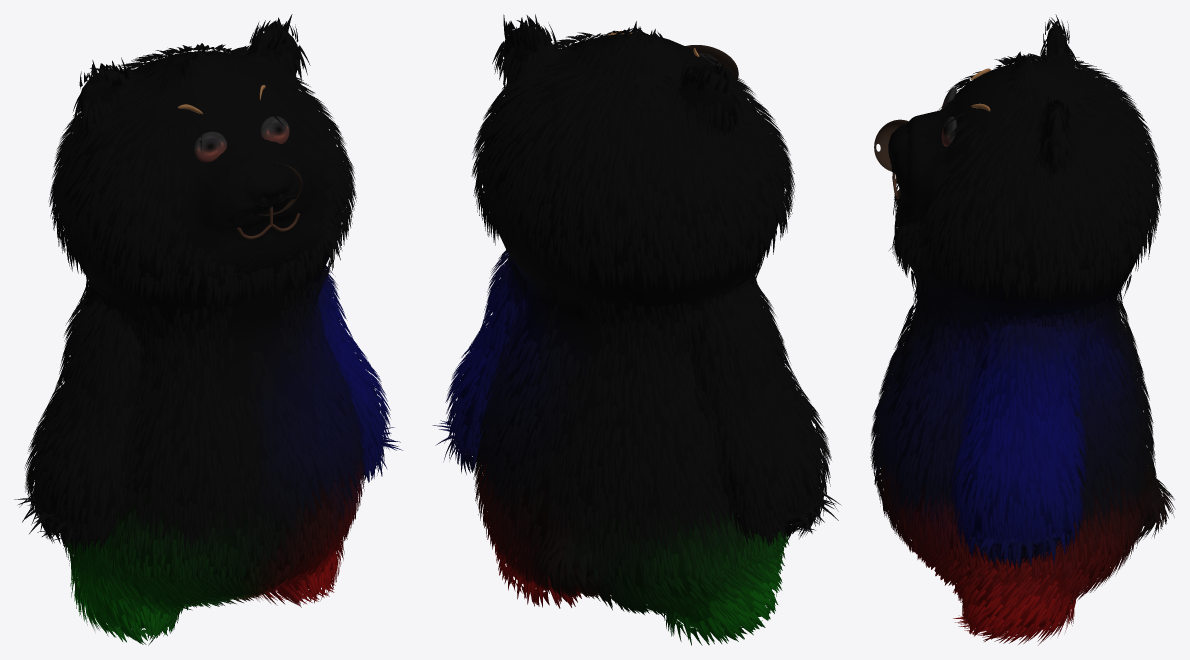
The model's file is bear_shell_v17.glb.
The picture shows the model from 3 angles, left to right: view 1: azimuth 30°, elevation 25°; view 2: azimuth 150°, elevation 25°; view 3: azimuth 270°, elevation 25°; orthographic projection. The views are drawn at different scales.
Parts seen in each view (by area): view 1: LayeredCurvedGroom, BoundedShellGroom, Body, BrownBear_Normal; view 2: LayeredCurvedGroom, BoundedShellGroom, Body; view 3: LayeredCurvedGroom, BoundedShellGroom, Body, Soft nose and inset nostrils, BrownBear_Normal.
Boxes of the visible parts, box(x1,y1,x2,y2) form: LayeredCurvedGroom: box(14, 14, 402, 645); BoundedShellGroom: box(33, 29, 380, 628); Body: box(51, 35, 373, 613); BrownBear_Normal: box(194, 116, 289, 162); LayeredCurvedGroom: box(432, 14, 841, 645); BoundedShellGroom: box(455, 27, 821, 628); Body: box(463, 28, 818, 617); LayeredCurvedGroom: box(870, 14, 1175, 645); BoundedShellGroom: box(879, 27, 1161, 631); Body: box(880, 48, 1151, 604); Soft nose and inset nostrils: box(874, 119, 908, 171); BrownBear_Normal: box(941, 87, 956, 146).
Size of the model in its own units: 1.76 by 2.57 by 1.31.
Materials: 7 (4 with a texture image).
